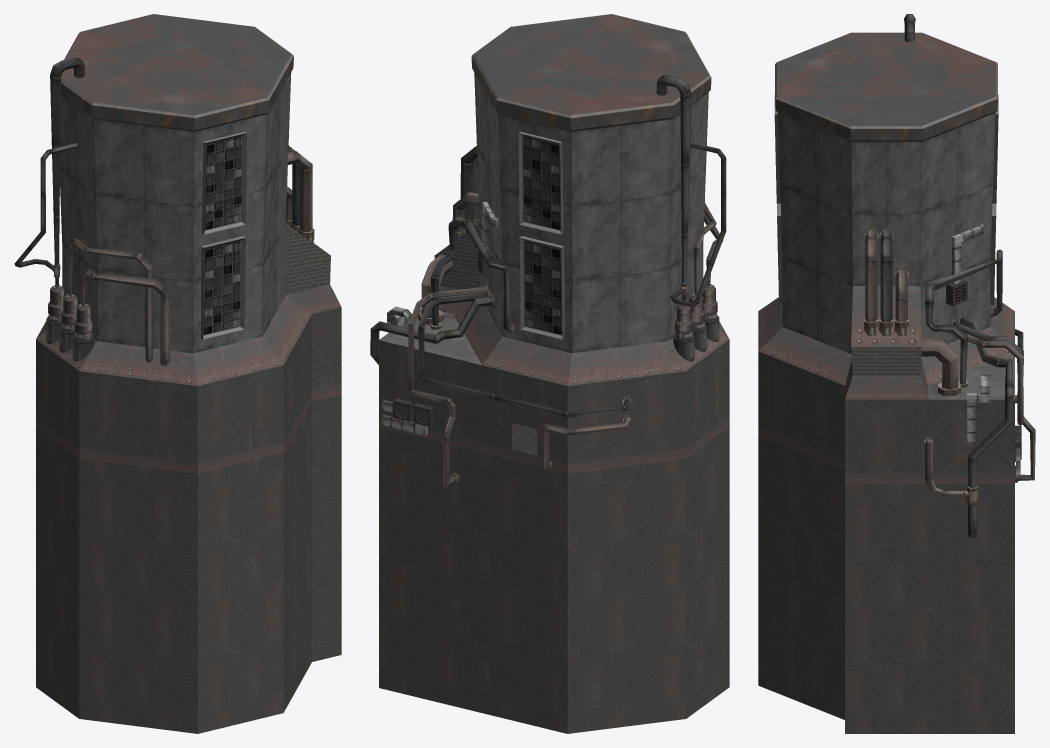
Rendered from factory_lobby.fbx.
The picture shows the model from 3 angles, left to right: view 1: azimuth 30°, elevation 25°; view 2: azimuth 150°, elevation 25°; view 3: azimuth 270°, elevation 25°; orthographic projection. The views are drawn at different scales.
Parts seen in each view (by area): view 1: Building, Pipes, Turbine; view 2: Building, Pipes, Turbine, Vents, FansCases; view 3: Building, Pipes, Vents, PipeBearings.
Boxes of the visible parts, left/top/right/bottom form: Building: left=36, top=14, right=341, bottom=733; Pipes: left=14, top=57, right=312, bottom=366; Turbine: left=46, top=285, right=94, bottom=361; Building: left=379, top=14, right=729, bottom=733; Pipes: left=370, top=75, right=726, bottom=487; Turbine: left=673, top=283, right=719, bottom=361; Vents: left=382, top=201, right=498, bottom=435; FansCases: left=393, top=398, right=433, bottom=426; Building: left=758, top=32, right=1014, bottom=733; Pipes: left=865, top=14, right=1035, bottom=537; Vents: left=946, top=224, right=1020, bottom=476; PipeBearings: left=864, top=228, right=1017, bottom=482.
Bounding box in the file's own units: 5232 × 10821 × 4501.
